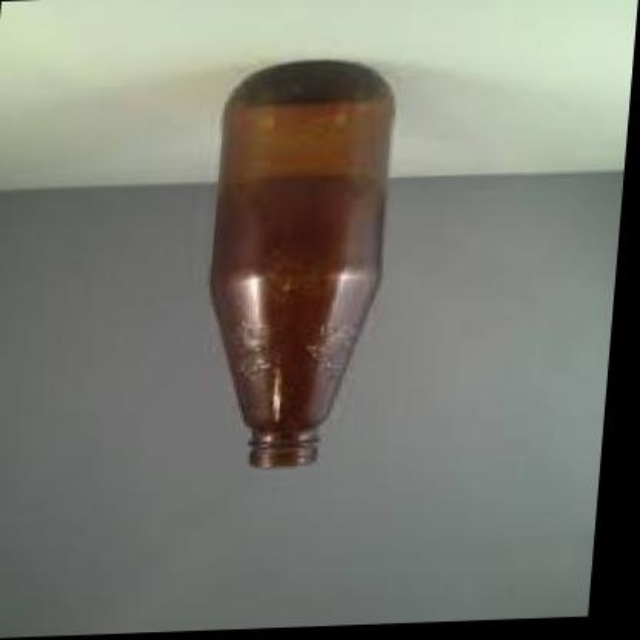trash: (211, 60, 392, 466)
